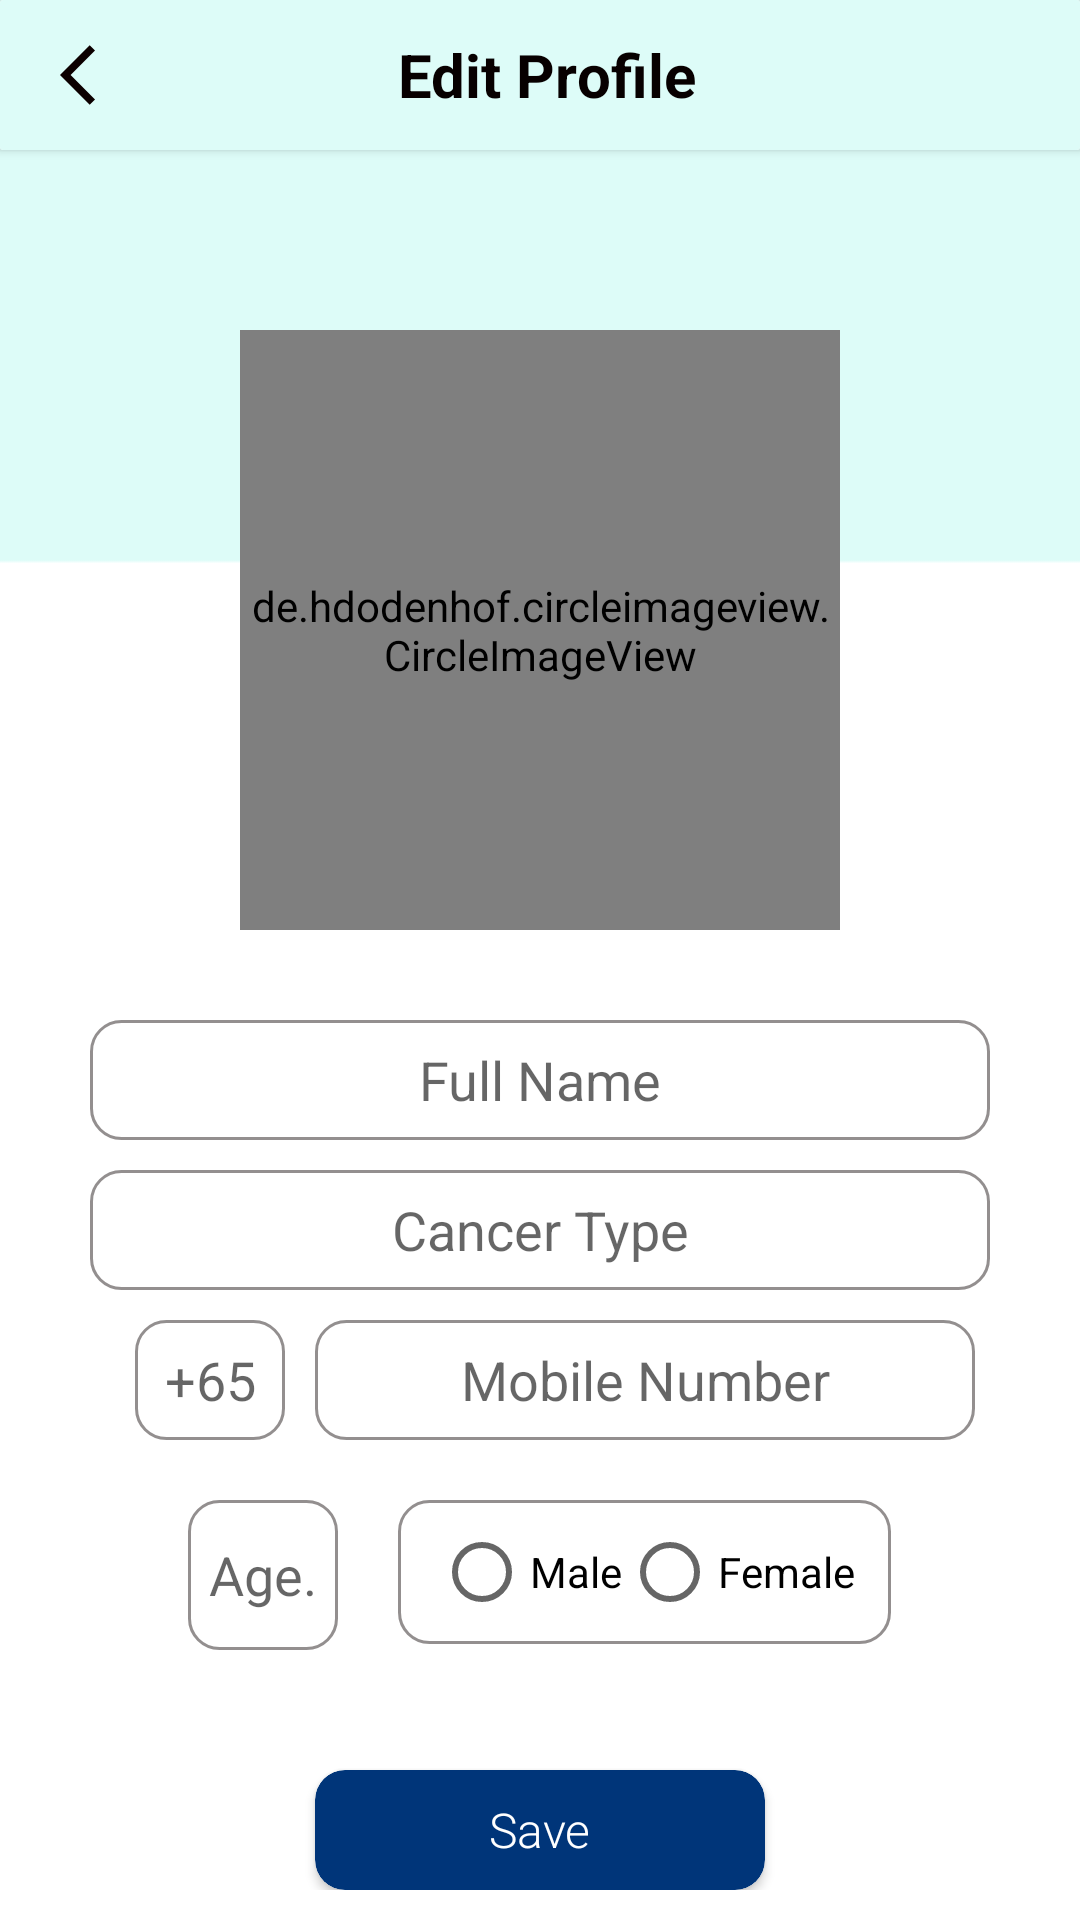

Named icons in this screenshot (1080x1920) and their bounding boxes, (x1, y1, x2, y2):
back: (60, 45, 95, 105)
